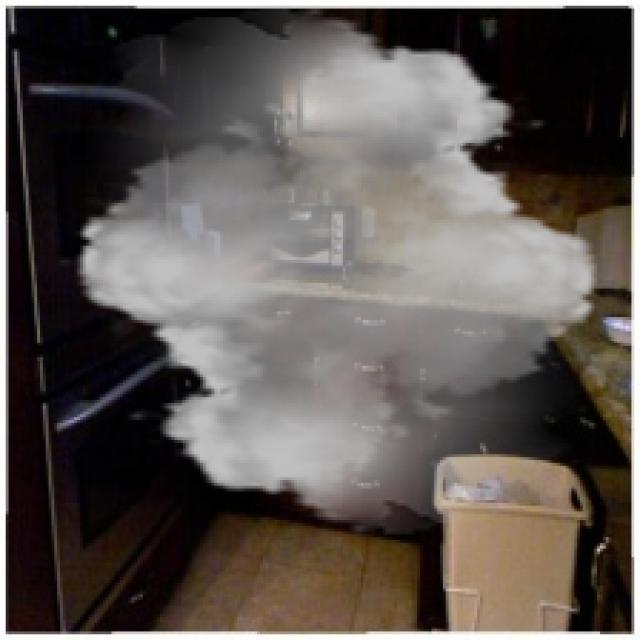smoke: (54, 6, 620, 534)
